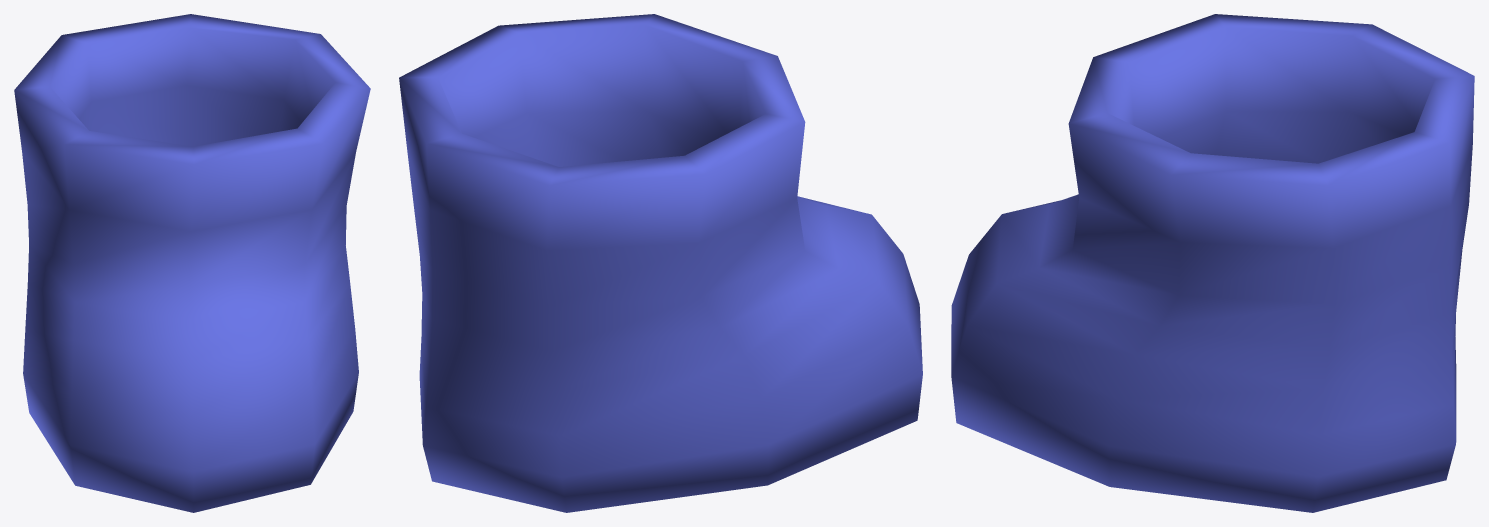
File: bluboots_r.fbx
3 renders of one model, left to right at view 1: azimuth 30°, elevation 25°; view 2: azimuth 150°, elevation 25°; view 3: azimuth 270°, elevation 25°, orthographic. The views are drawn at different scales.
Parts seen in each view (by area): view 1: bluboots_r; view 2: bluboots_r; view 3: bluboots_r.
Part boxes in pixels (box(x1,y1,x2,y2)): bluboots_r: box(14, 14, 370, 512); bluboots_r: box(399, 14, 922, 512); bluboots_r: box(951, 14, 1474, 512).
Bounding box in the file's own units: 11.41 × 9.36 × 12.7.
